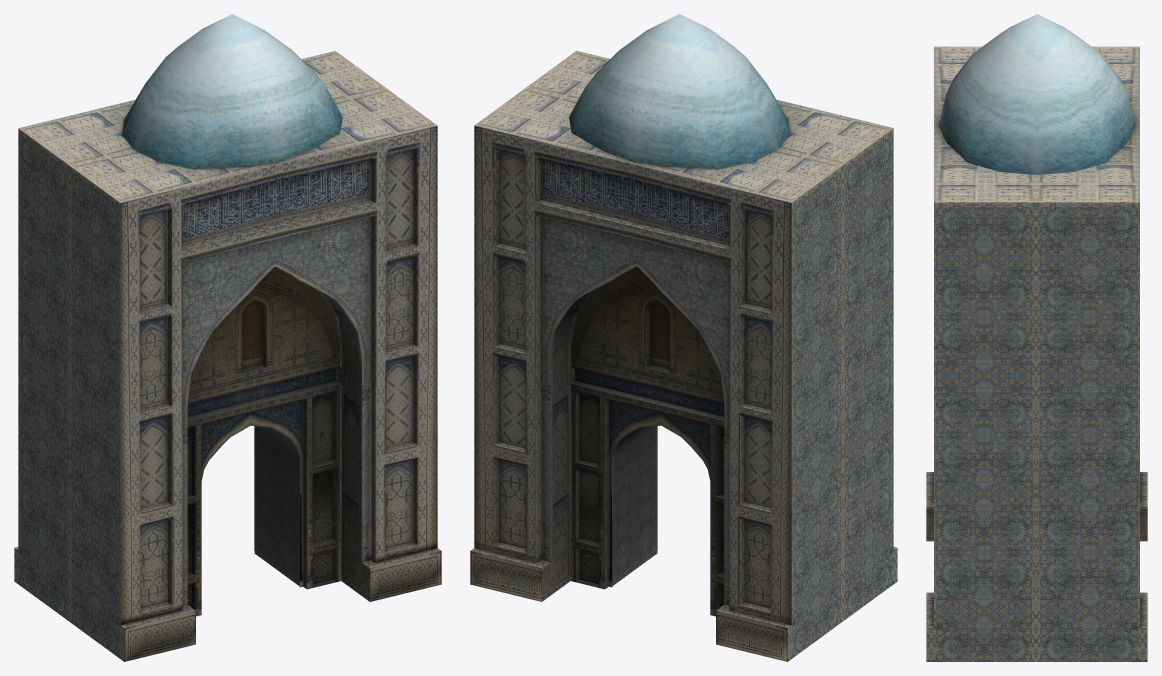
The model's file is building19.dae.
3 renders of one model, left to right at view 1: azimuth 30°, elevation 25°; view 2: azimuth 150°, elevation 25°; view 3: azimuth 270°, elevation 25°, orthographic.
Parts seen in each view (by area): view 1: meshU3D; view 2: meshU3D; view 3: meshU3D.
Boxes of the visible parts, bbox=[...] form: meshU3D: bbox=[14, 14, 441, 661]; meshU3D: bbox=[470, 14, 897, 661]; meshU3D: bbox=[926, 14, 1147, 661].
Bounding box in the file's own units: 365 × 624 × 219.
